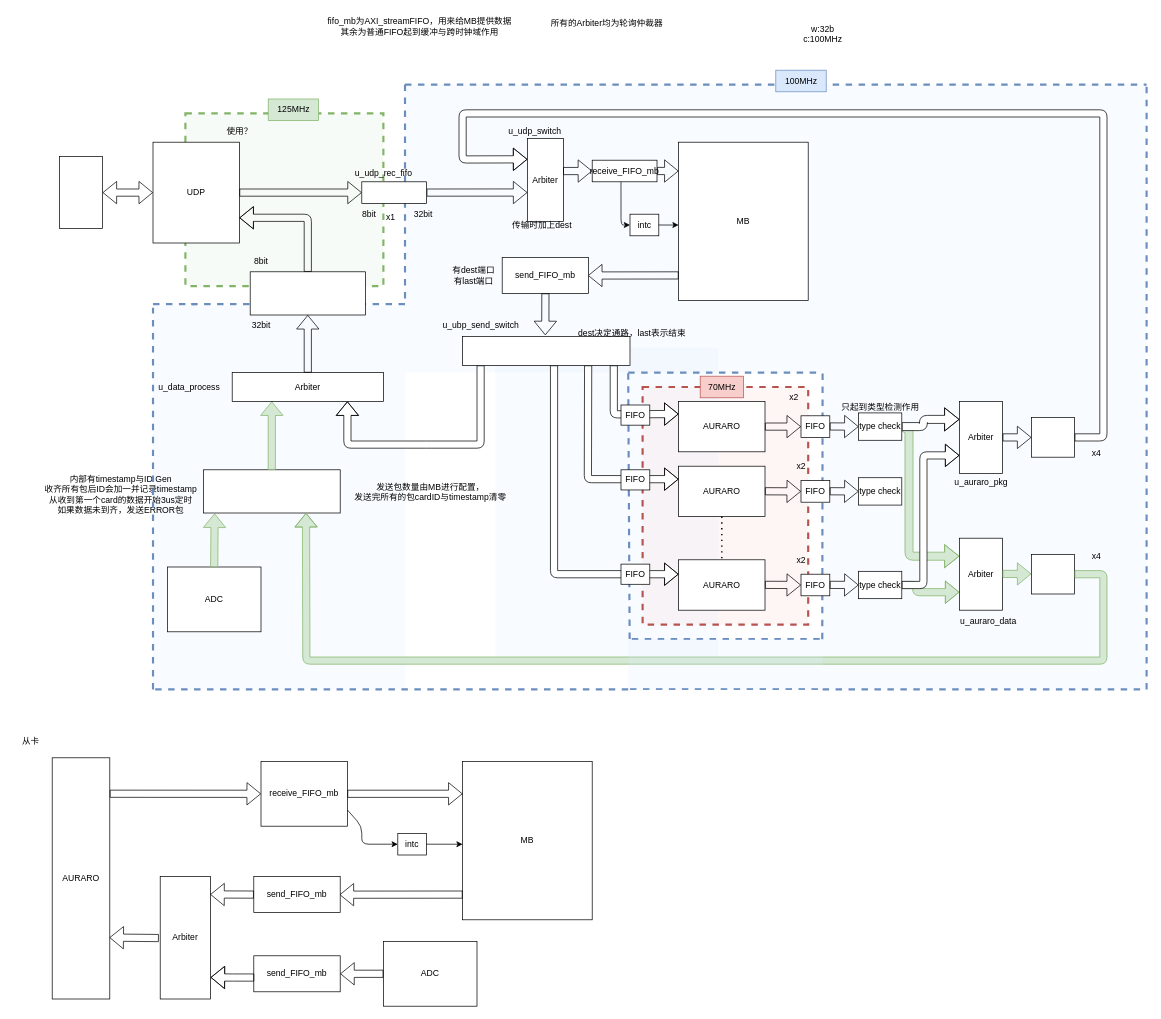
The diagram is 1161 pixels wide and 1019 high, and some of its shapes have lost their labels. Here are the shapes that lost their labels. From the top down, the centre of each, then its label:
point 81,192: RJ45
point 394,192: receive_FIFO
point 307,293: send_FIFO
point 546,350: SWITCH
point 1053,437: pkg fifo
point 271,491: DATA_PROCESS
point 1053,574: data fifo
